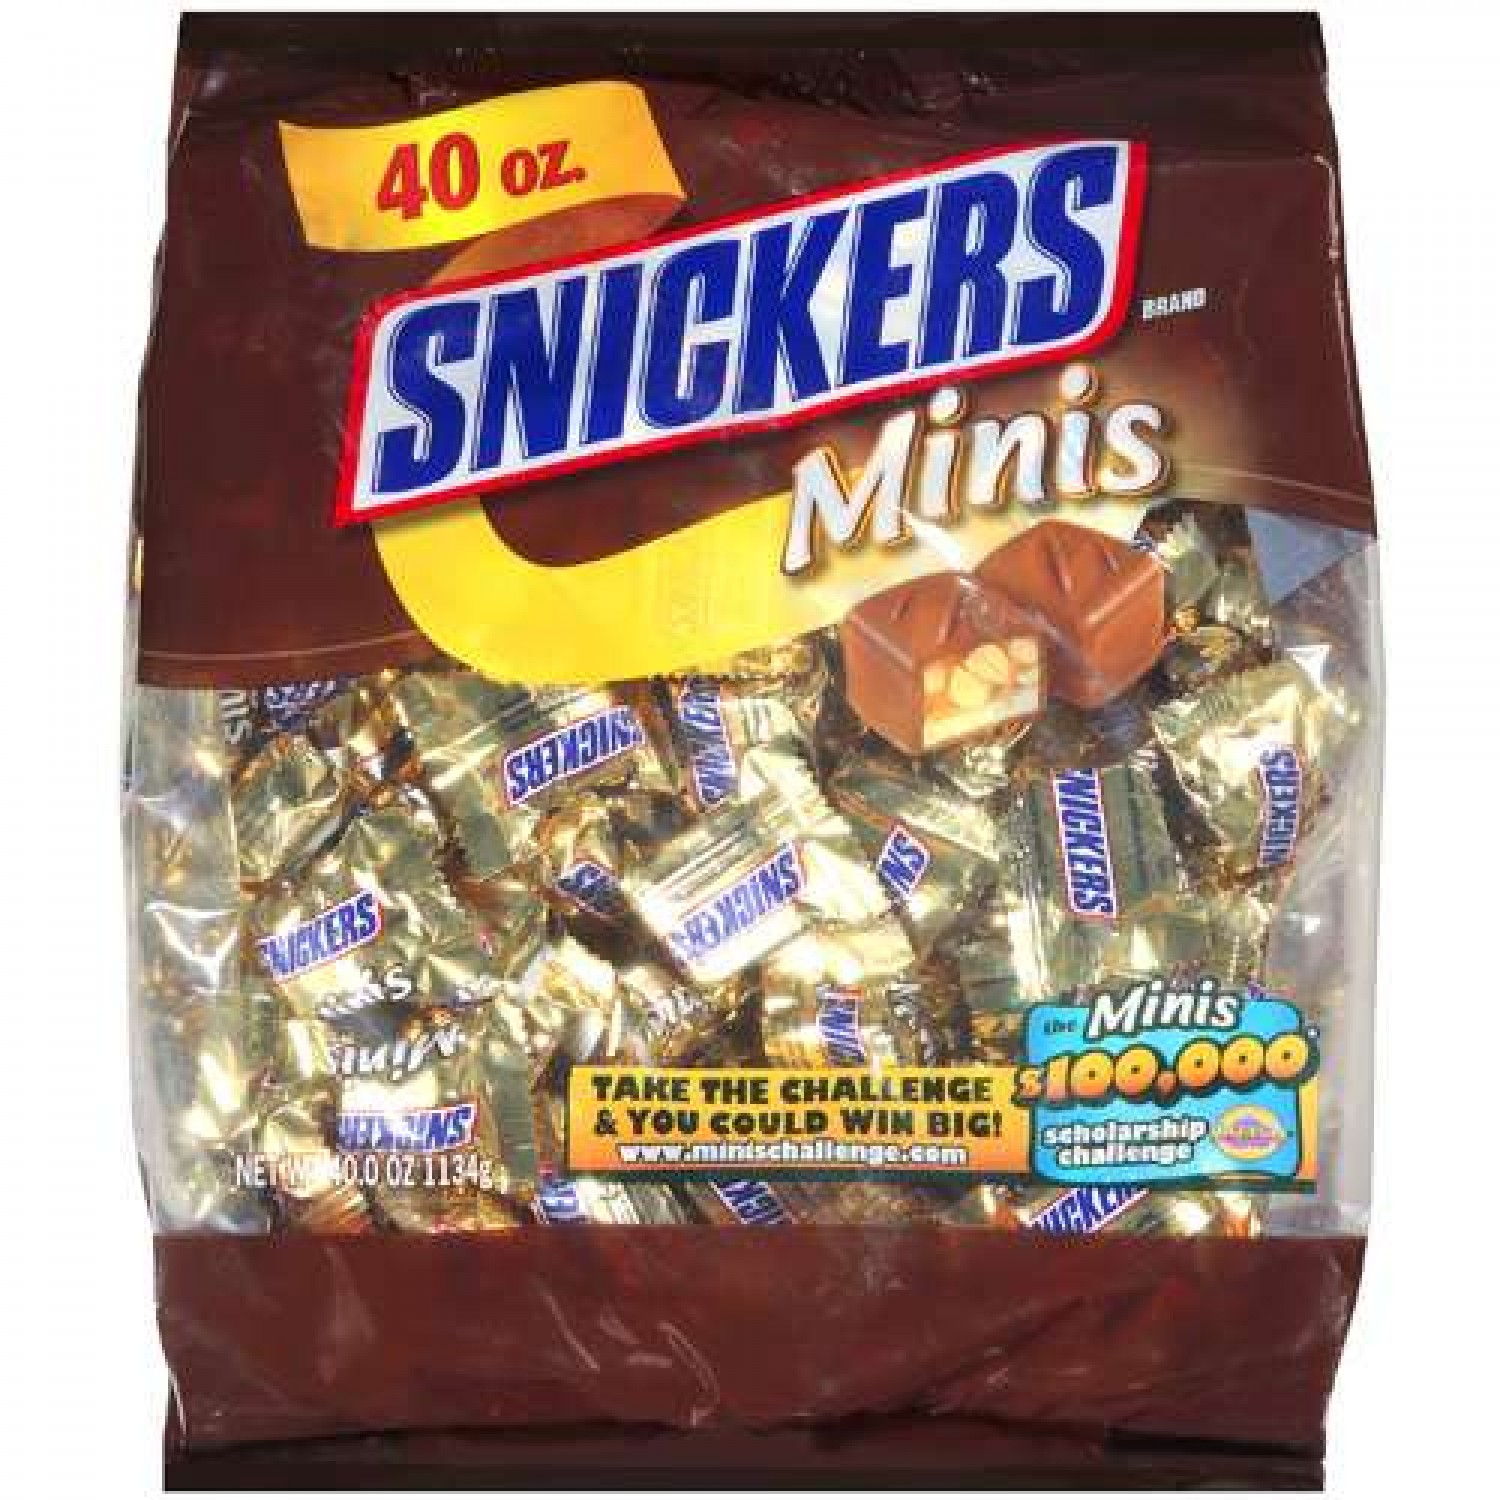snickers: (368, 139, 1120, 499)
